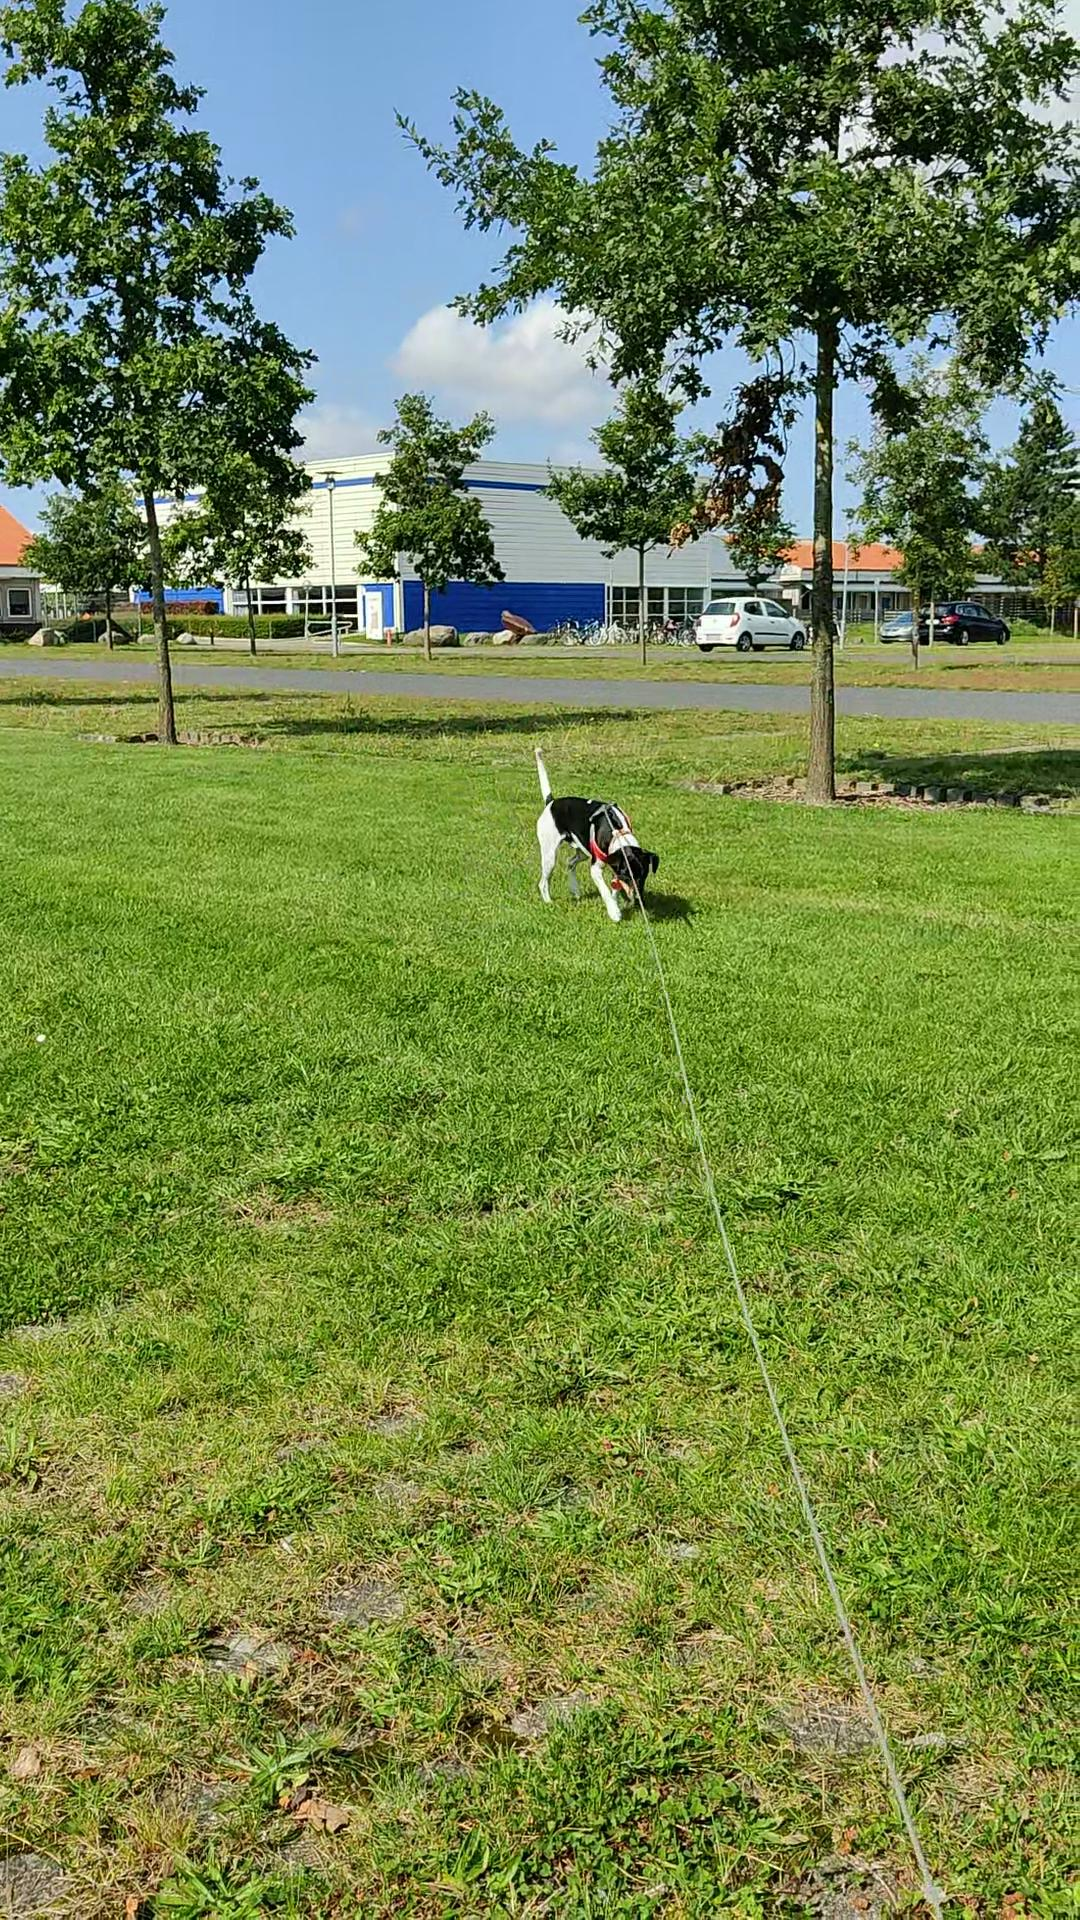Dog: (526, 742, 665, 927)
